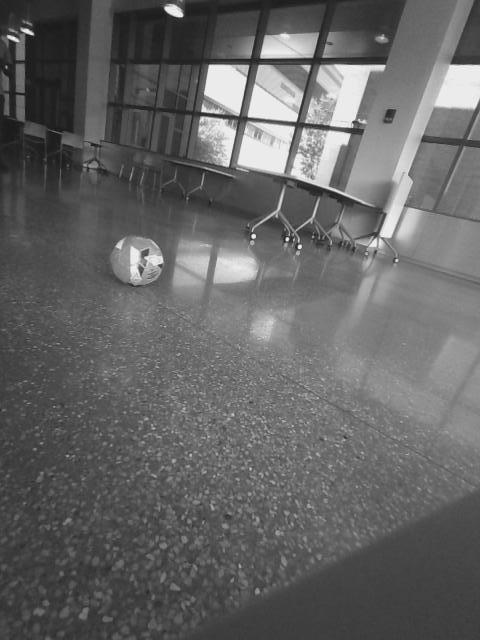ball: (108, 233, 168, 286)
